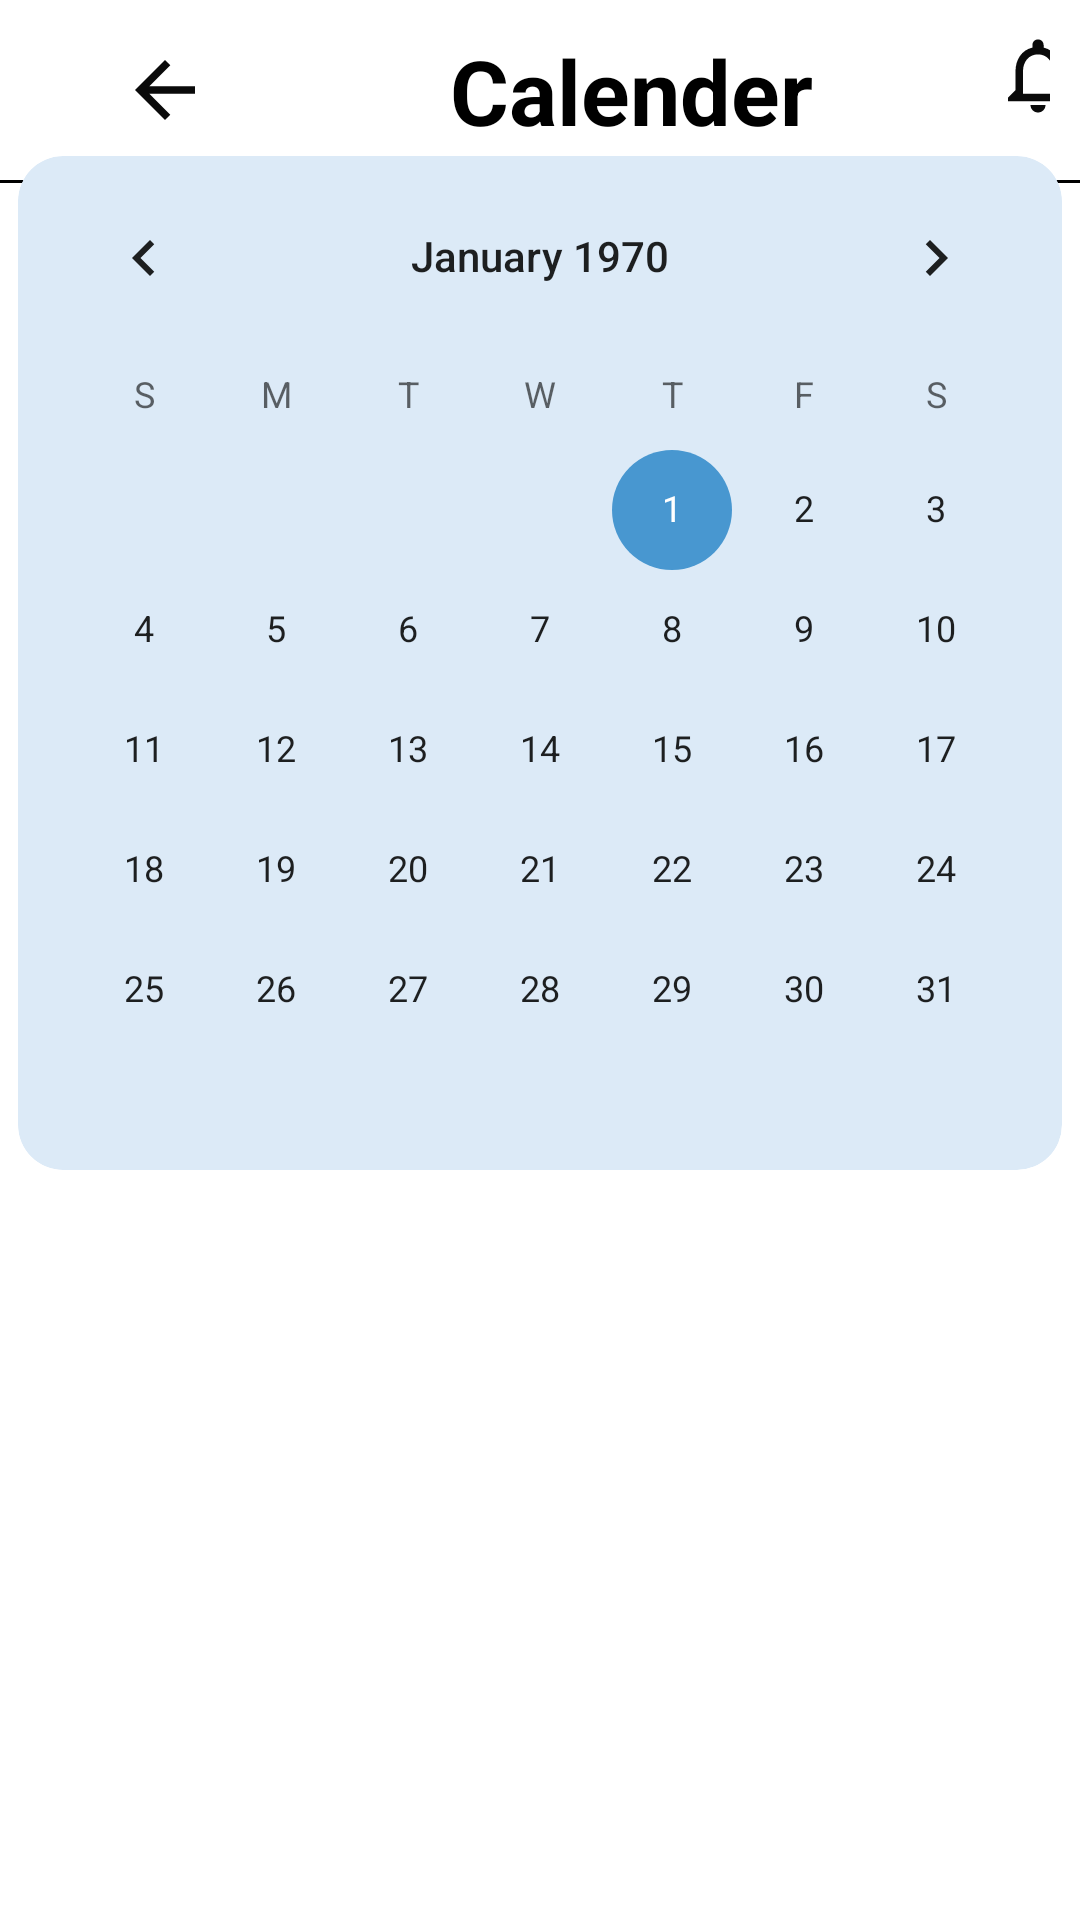

Icons on this 1080 × 1920 Android screen, each with the point to tap as (x,y):
arrow back: (165,90)
